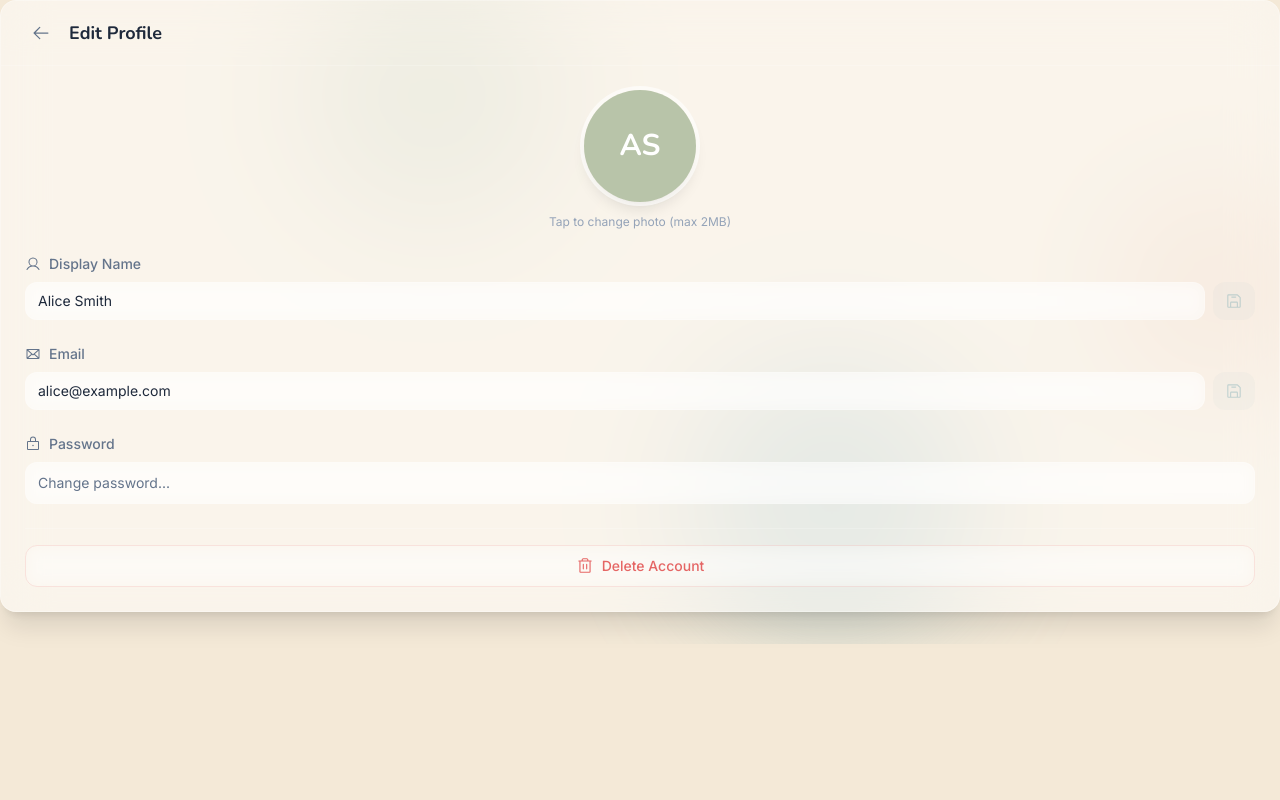
Test: ProfileEditForm › shows name update error message
Replace the text in the field showing "Alice Smith" below "Display Name" with "Bob Jones" at (615, 301), box [25,282,1205,320]
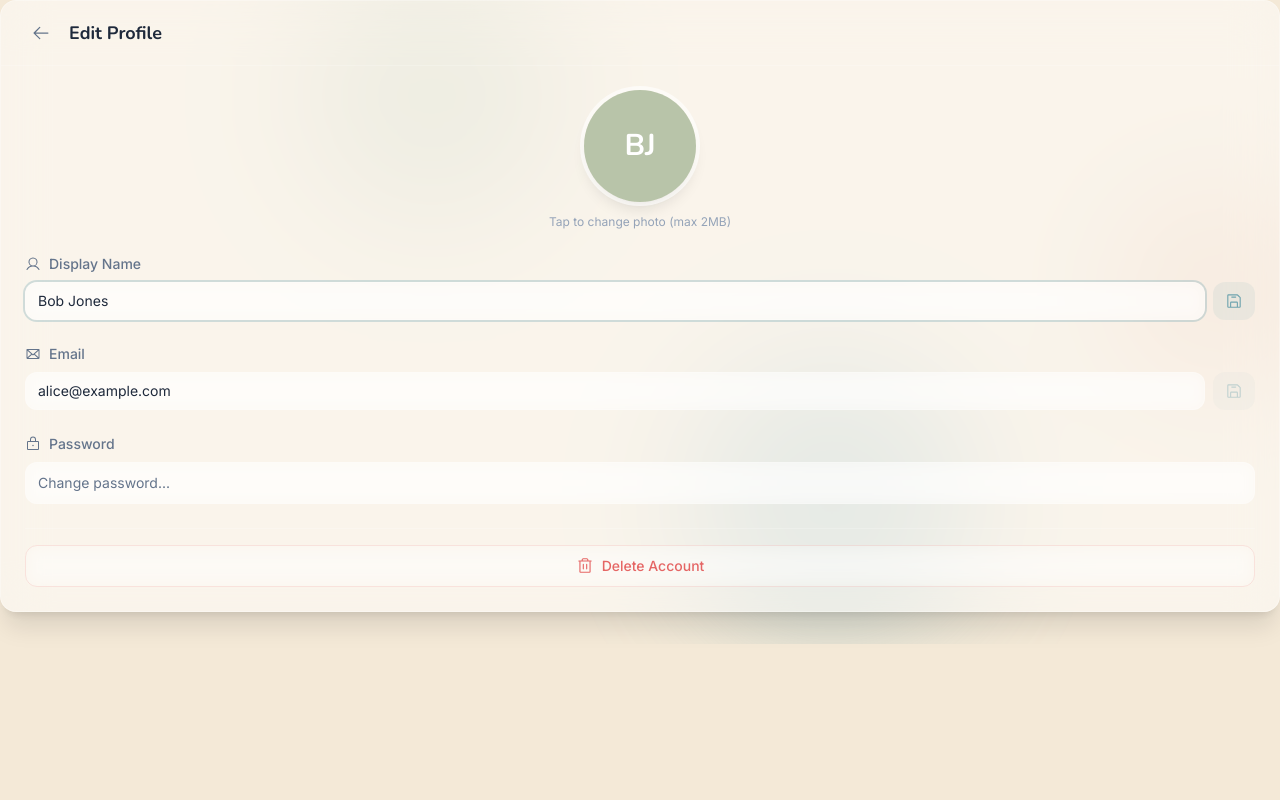
Click the 3rd button at (1234, 301), box [1213,282,1255,320]
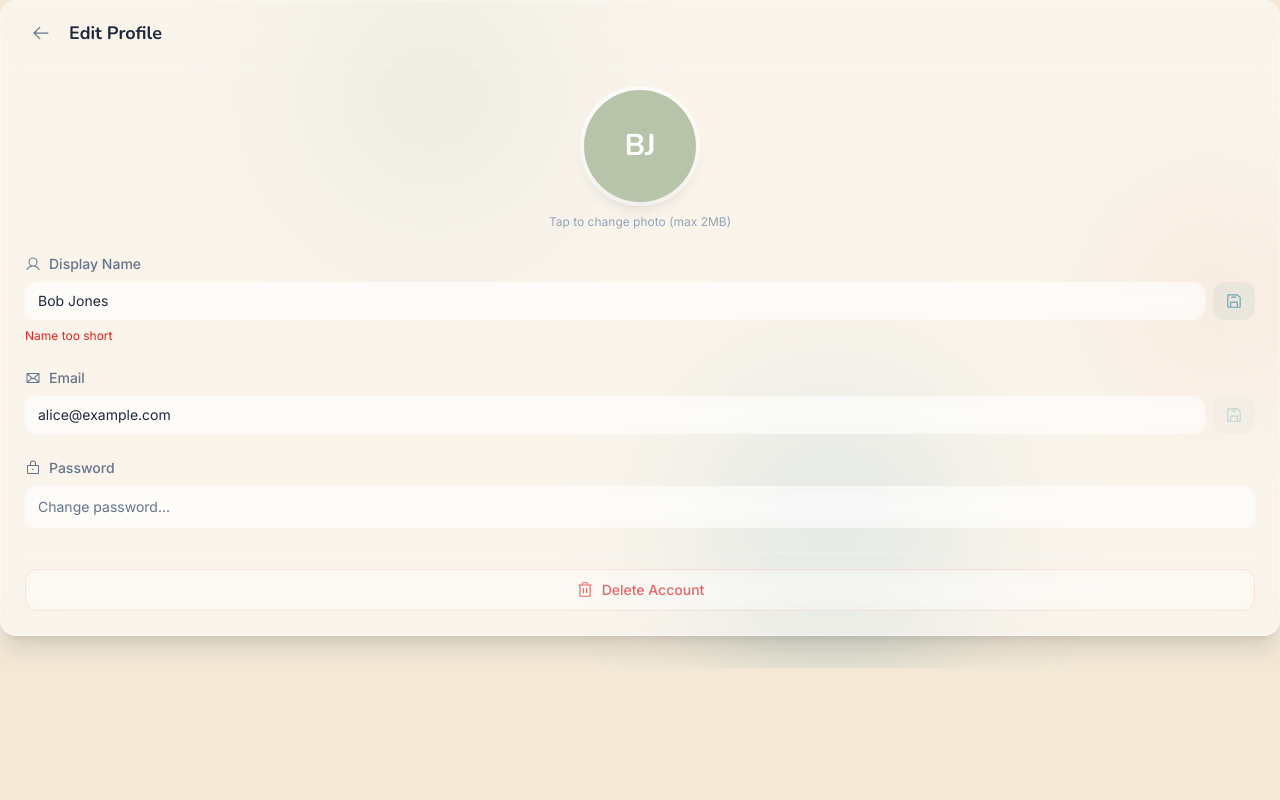
Expected: the text "Name too short" is shown, [25,328,112,343]
